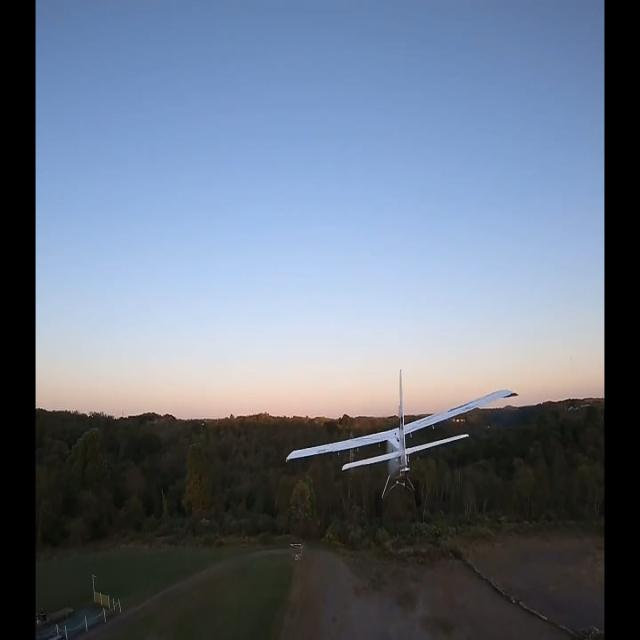iha: (284, 364, 519, 498)
